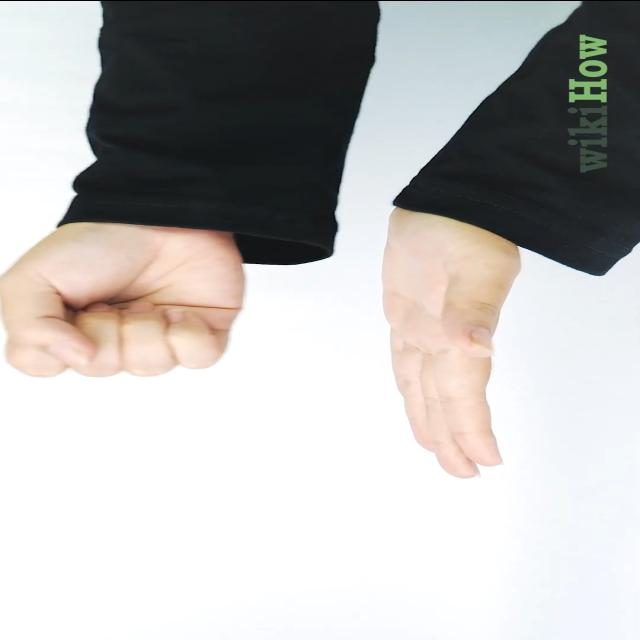Rock: (0, 224, 247, 379)
